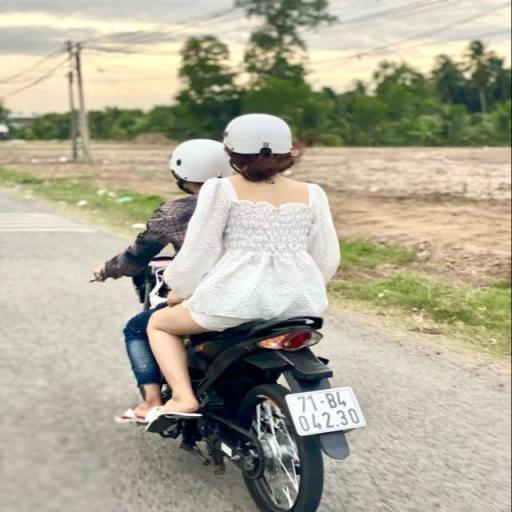with helmet: (218, 112, 296, 158), (164, 138, 236, 185)
